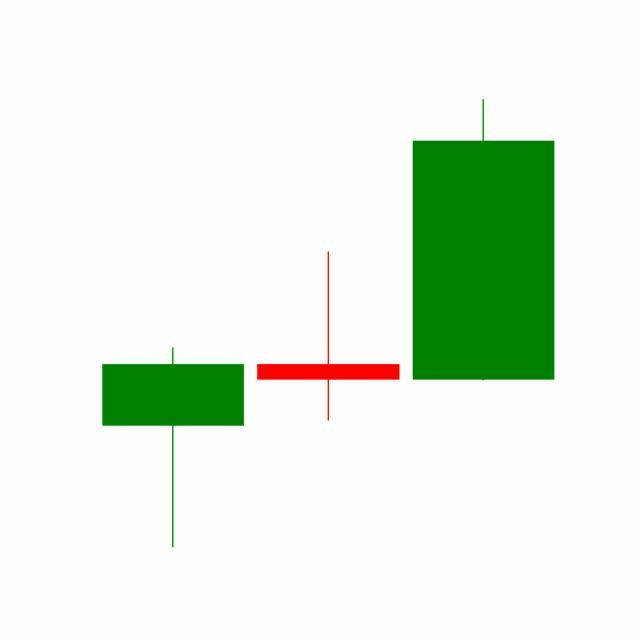Spinning Top: (250, 250, 407, 424)
